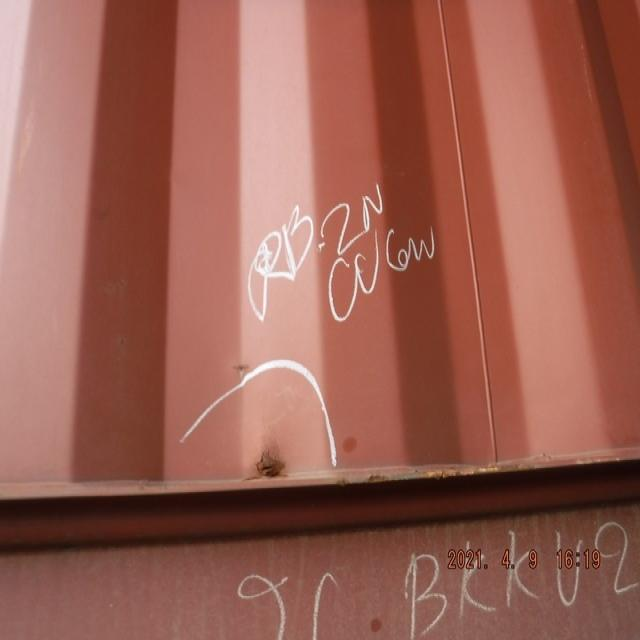hole: (257, 452, 289, 482)
